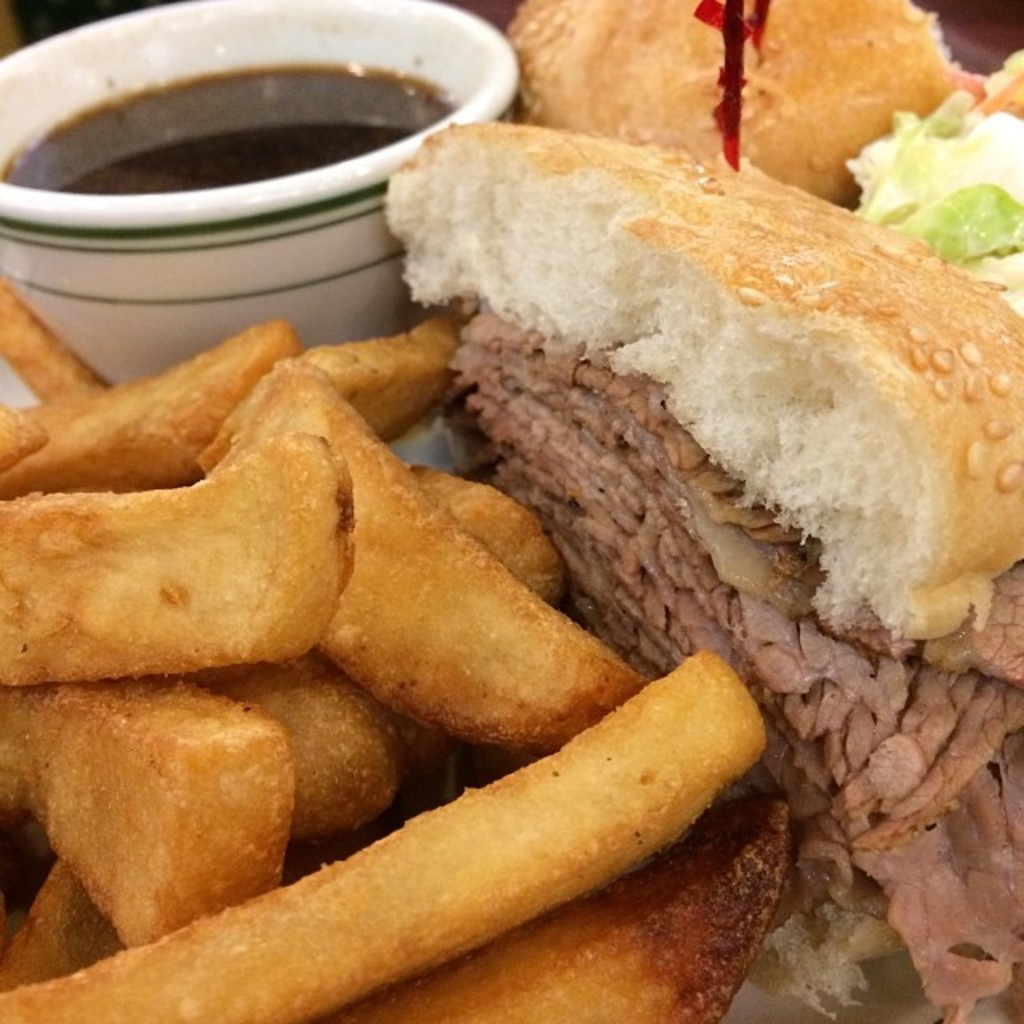French fries: (3, 550, 860, 992)
